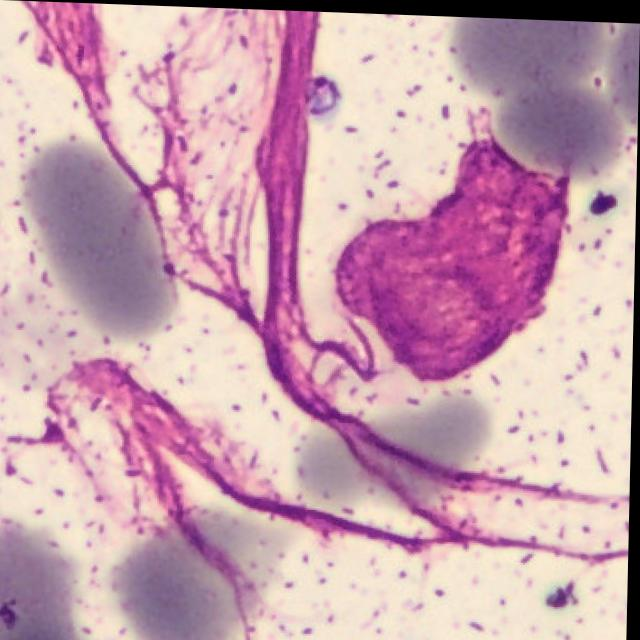Restos celulares: (334, 129, 570, 380)
